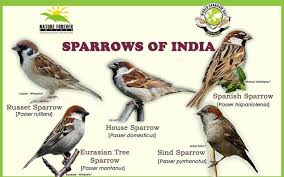hsparrow: (104, 57, 201, 122)
